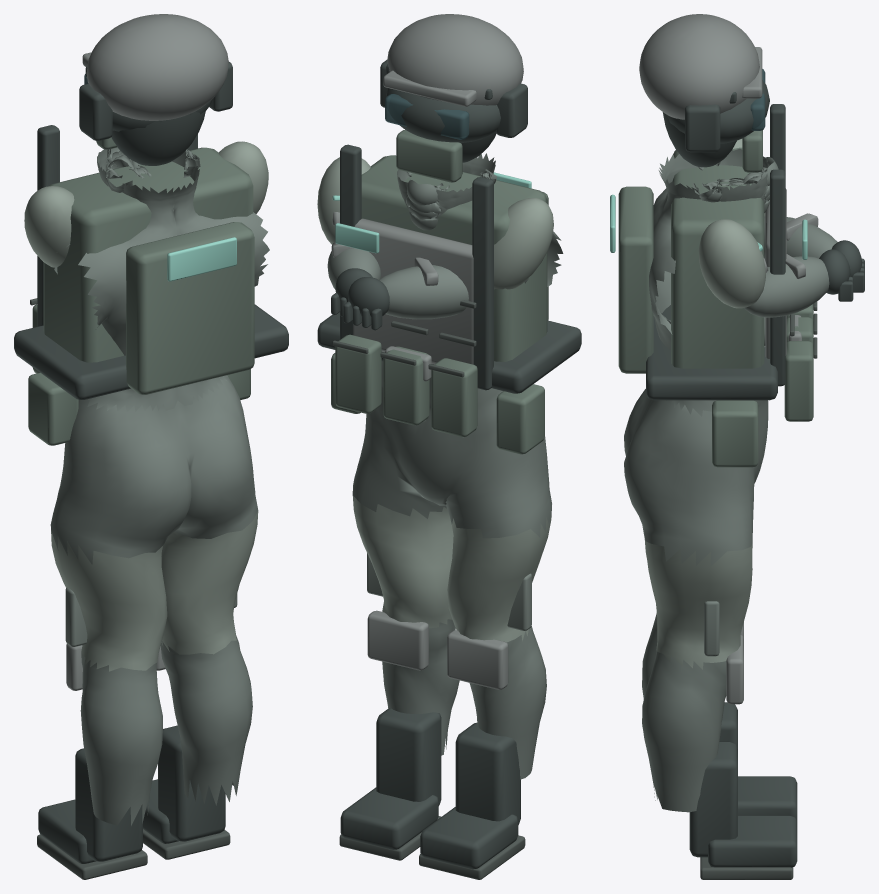
File: operator.glb
3 renders of one model, left to right at view 1: azimuth 30°, elevation 25°; view 2: azimuth 150°, elevation 25°; view 3: azimuth 270°, elevation 25°, orthographic. The views are drawn at different scales.
Visible parts, largest first — view 1: preview-human-pelvis, chest__rear-hydration-pack, chest__plate-carrier-shell, head__high-cut-helmet, preview-human-chest, preview-human-leftShin, preview-human-rightShin, preview-human-leftThigh, preview-human-rightThigh, pelvis__soft-duty-belt, rightShin__boot-shaft, leftShin__boot-shaft (+15 smaller); view 2: preview-human-pelvis, chest__plate-carrier-shell, preview-human-rightThigh, head__high-cut-helmet, preview-human-leftThigh, chest__front-ballistic-plate, preview-human-leftShin, rightShin__boot-shaft, leftShin__boot-shaft, preview-human-rightShin, chest__shoulder-strap--0.20, leftShin__boot-toe-cap (+26 smaller); view 3: preview-human-pelvis, chest__plate-carrier-shell, preview-human-rightShin, head__high-cut-helmet, preview-human-rightThigh, preview-human-chest, chest__rear-hydration-pack, pelvis__soft-duty-belt, rightUpper__sleeve-upper, rightShin__boot-toe-cap, rightShin__boot-shaft, pelvis__sidearm-pouch-1 (+20 smaller).
Part boxes in pixels (x1,y1,x2,y2): preview-human-pelvis: [50, 376, 258, 564]; chest__rear-hydration-pack: [126, 222, 254, 394]; chest__plate-carrier-shell: [43, 147, 253, 362]; head__high-cut-helmet: [86, 14, 228, 120]; preview-human-chest: [54, 147, 269, 411]; preview-human-leftShin: [80, 652, 162, 825]; preview-human-rightShin: [160, 635, 252, 805]; preview-human-leftThigh: [51, 530, 167, 671]; preview-human-rightThigh: [161, 511, 258, 654]; pelvis__soft-duty-belt: [14, 304, 288, 399]; rightShin__boot-shaft: [158, 725, 225, 841]; leftShin__boot-shaft: [75, 748, 142, 861]; preview-human-pelvis: [352, 387, 551, 538]; chest__plate-carrier-shell: [361, 155, 547, 361]; preview-human-rightThigh: [352, 495, 453, 628]; head__high-cut-helmet: [387, 14, 523, 105]; preview-human-leftThigh: [447, 511, 551, 642]; chest__front-ballistic-plate: [353, 218, 473, 364]; preview-human-leftShin: [469, 626, 546, 779]; rightShin__boot-shaft: [376, 708, 441, 805]; leftShin__boot-shaft: [455, 722, 520, 824]; preview-human-rightShin: [382, 619, 459, 755]; chest__shoulder-strap--0.20: [472, 177, 493, 390]; leftShin__boot-toe-cap: [420, 807, 518, 869]; preview-human-pelvis: [624, 389, 768, 566]; chest__plate-carrier-shell: [671, 147, 764, 368]; preview-human-rightShin: [642, 650, 726, 812]; head__high-cut-helmet: [639, 14, 759, 119]; preview-human-rightThigh: [643, 533, 752, 669]; preview-human-chest: [649, 148, 778, 416]; chest__rear-hydration-pack: [618, 186, 653, 373]; pelvis__soft-duty-belt: [646, 305, 777, 400]; rightUpper__sleeve-upper: [698, 219, 765, 308]; rightShin__boot-toe-cap: [708, 815, 797, 867]; rightShin__boot-shaft: [689, 741, 737, 857]; pelvis__sidearm-pouch-1: [712, 400, 758, 467].
Size of the model in its own units: 0.6853 by 2.34 by 0.656.
